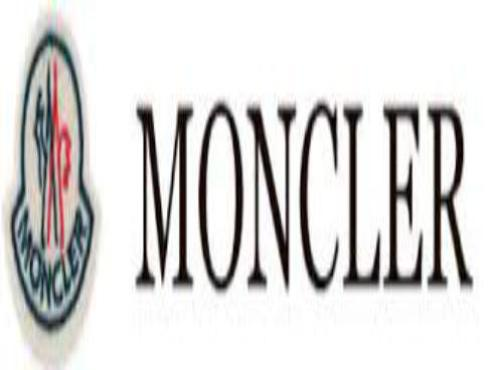MONCLER: (134, 98, 479, 289), (31, 57, 75, 250)
